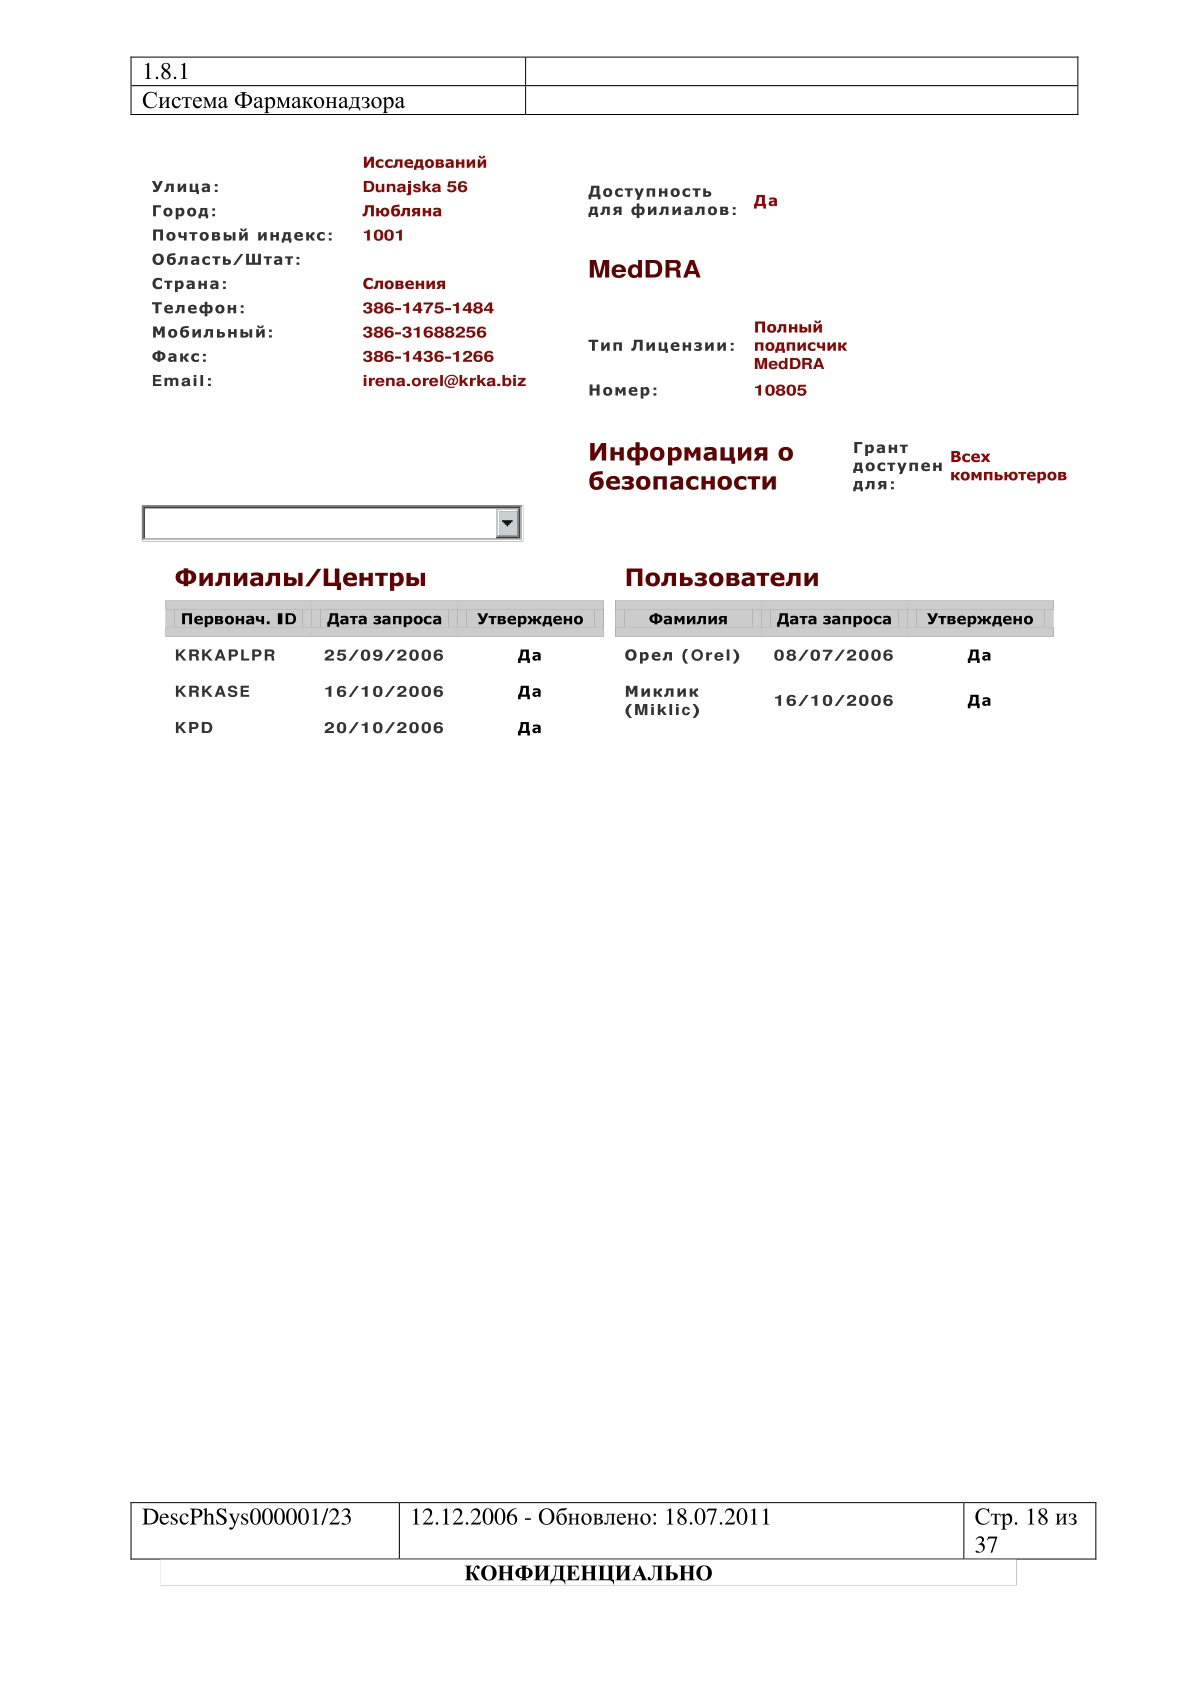full_lined: (130, 1501, 1097, 1560), (130, 55, 1079, 115)
nolines: (144, 149, 855, 403), (161, 563, 1058, 743)
